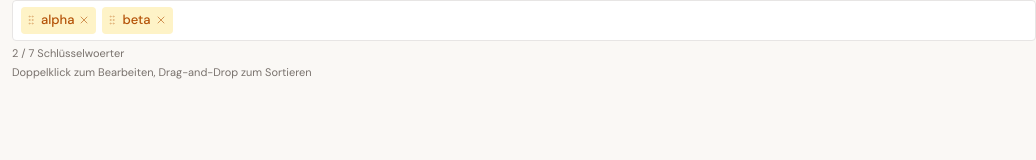
KeywordInput - inline edit › Escape in edit mode cancels and keeps the original value
Double-click the element with test id "keyword-chip-0" at (59, 20), box [21,7,96,34]
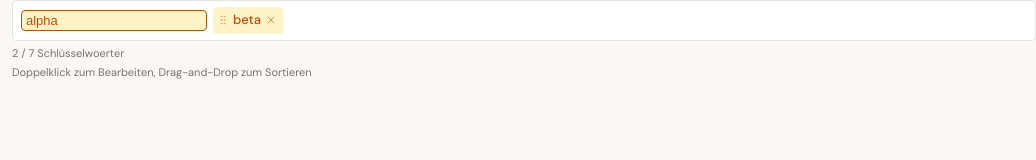
Replace the text in the field with test id "keyword-chip-0-edit-input" with "throwaway". click: (114, 20)
box: [26,13,202,28]
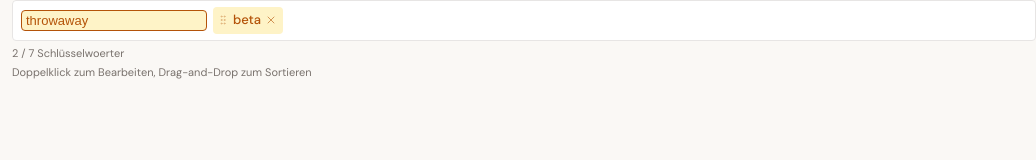
Press Escape in the field with test id "keyword-chip-0-edit-input", box [26,13,202,28]
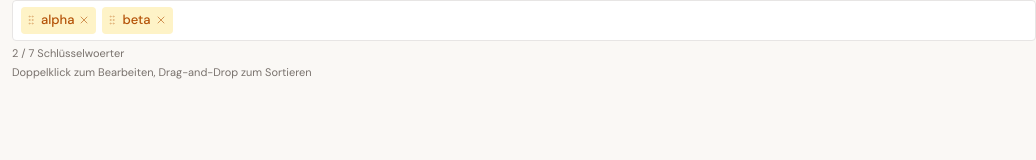
expect the field with test id "keyword-chip-0-edit-input" is gone: met
expect the element with test id "keyword-chip-0" reads "alpha": met, box [41,11,74,28]
